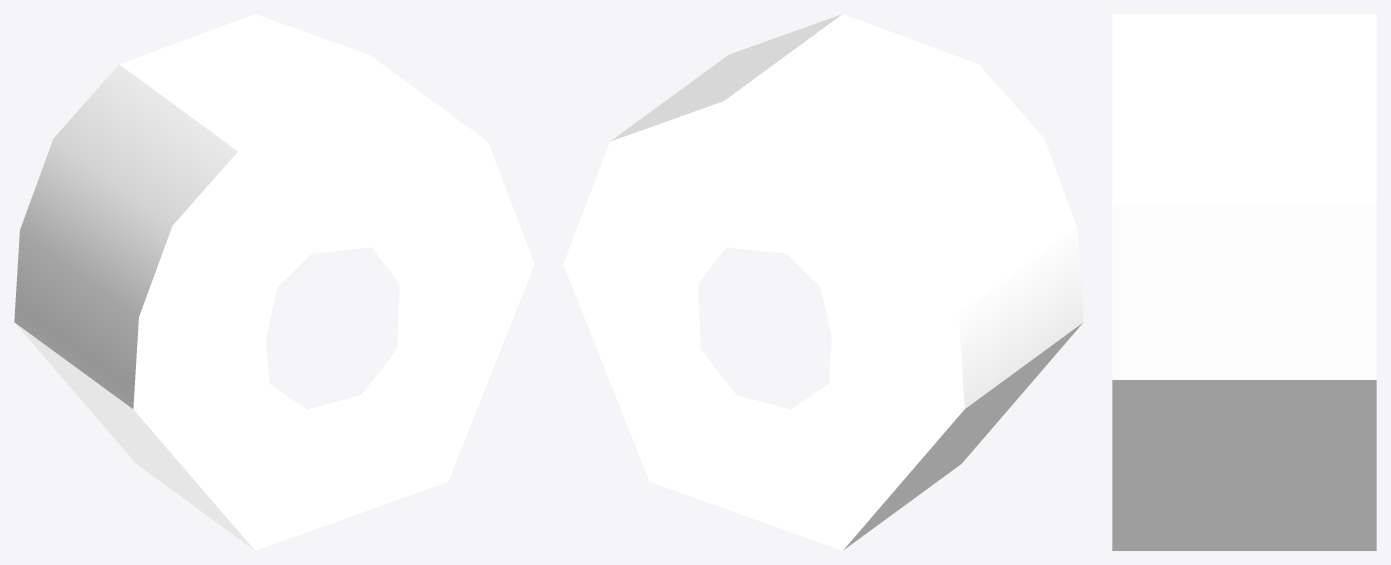
The model's file is O_Zyzol_White.glb.
3 views of the same model, side by side, from view 1: azimuth 30°, elevation 25°; view 2: azimuth 150°, elevation 25°; view 3: azimuth 270°, elevation 25° (orthographic). The views are drawn at different scales.
Parts seen in each view (by area): view 1: o_Zyzol_White; view 2: o_Zyzol_White; view 3: o_Zyzol_White.
Boxes of the visible parts, x1,y1,x2,y2 form: o_Zyzol_White: (14,14,534,550); o_Zyzol_White: (563,14,1083,550); o_Zyzol_White: (1112,14,1376,550).
Size of what is drawn, in the model's own units: 0.0876 by 0.0877 by 0.045.
2 materials, 2 textured.
